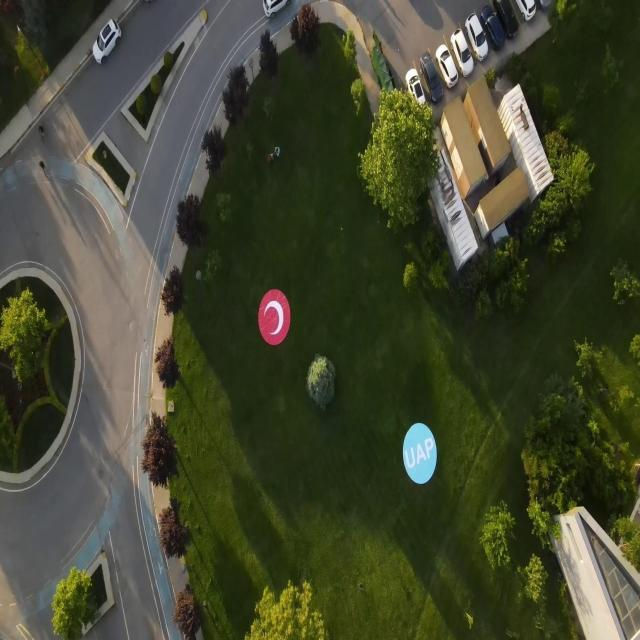p3rson: (274, 147, 280, 157), (268, 154, 272, 162)
